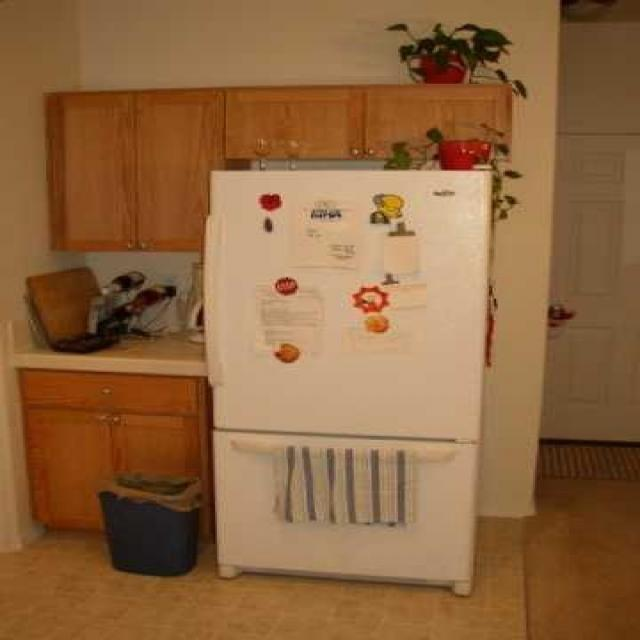refrigerator: (213, 162, 501, 602)
